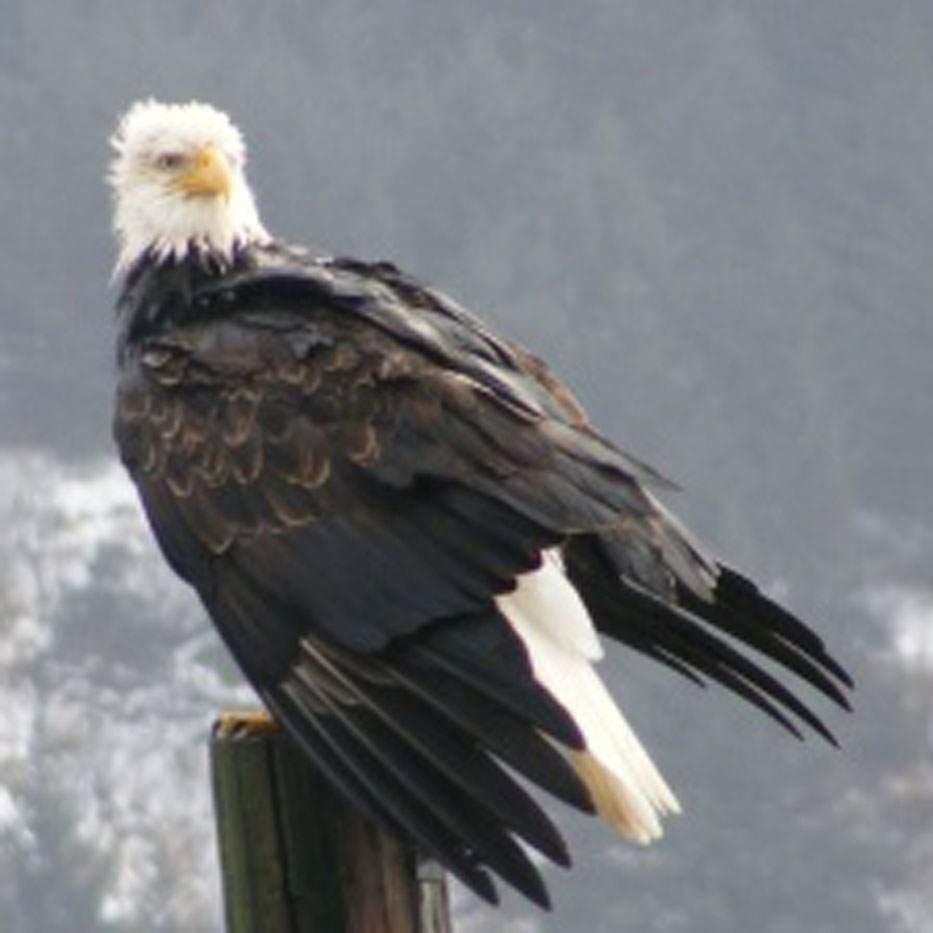Pengoyak Daging: (188, 147, 247, 208)
